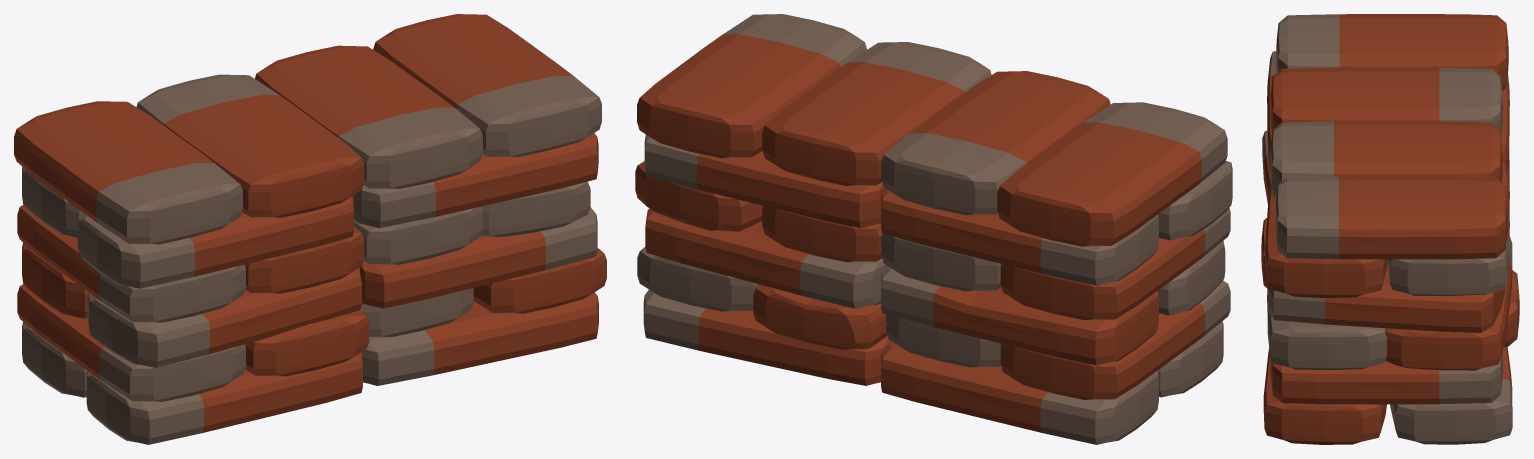
The model's file is SM_Props_CementC2_01.glb.
3 renders of one model, left to right at view 1: azimuth 30°, elevation 25°; view 2: azimuth 150°, elevation 25°; view 3: azimuth 270°, elevation 25°, orthographic. The views are drawn at different scales.
Parts seen in each view (by area): view 1: SM_Props_CementC2_01; view 2: SM_Props_CementC2_01; view 3: SM_Props_CementC2_01.
Boxes of the visible parts, box(x1,y1,x2,y2) form: SM_Props_CementC2_01: box(14, 14, 606, 444); SM_Props_CementC2_01: box(635, 14, 1232, 444); SM_Props_CementC2_01: box(1261, 14, 1519, 444).
Size of the model in its own units: 1.46 by 0.6891 by 0.7145.
Materials: 1 (1 with a texture image).
